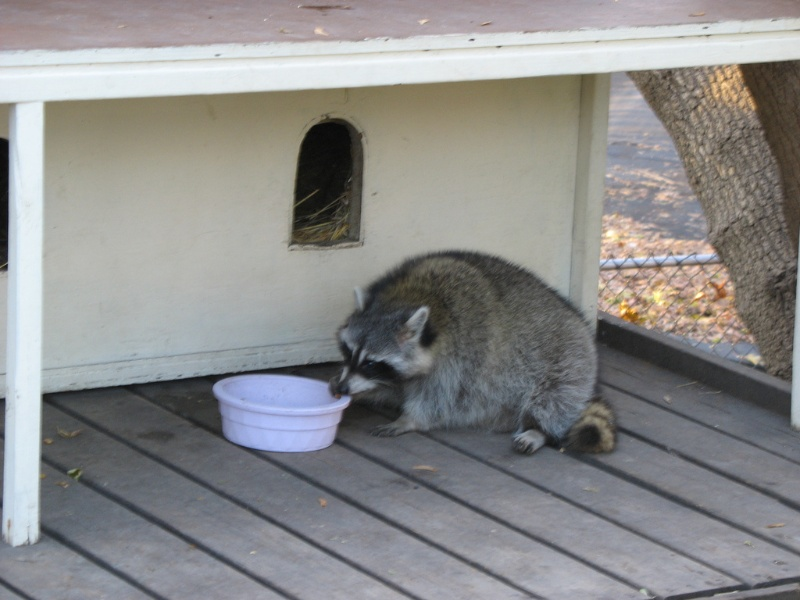raccoon: (328, 249, 619, 459)
